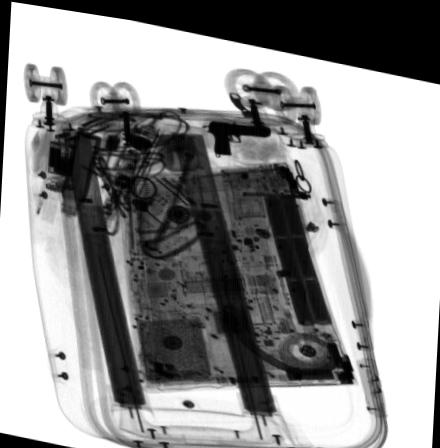Gun: (207, 113, 272, 147)
